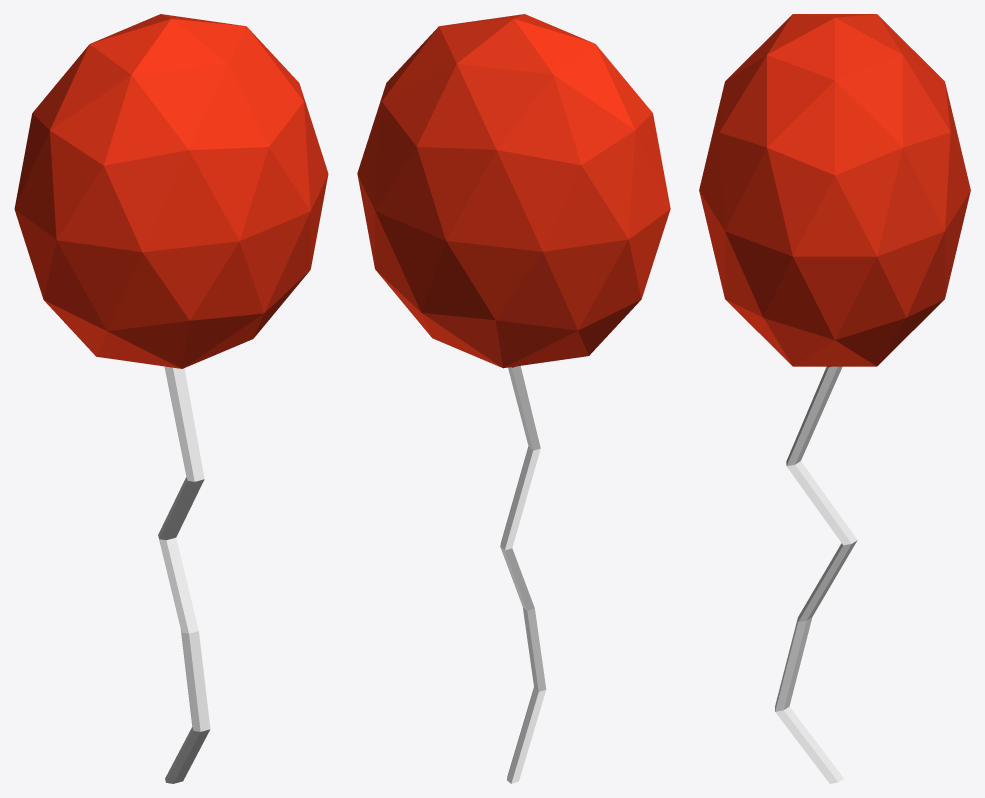
Rendered from Ballon.glb.
The picture shows the model from 3 angles, left to right: view 1: azimuth 30°, elevation 25°; view 2: azimuth 150°, elevation 25°; view 3: azimuth 270°, elevation 25°; orthographic projection.
Visible parts, largest first — view 1: Icosphere; view 2: Icosphere; view 3: Icosphere.
Boxes of the visible parts, x1=… form: Icosphere: x1=14, y1=14, x2=328, y2=783; Icosphere: x1=357, y1=14, x2=670, y2=783; Icosphere: x1=699, y1=14, x2=970, y2=783.
Bounding box in the file's own units: 0.3706 × 0.9936 × 0.3213.
1 material, 1 textured.
